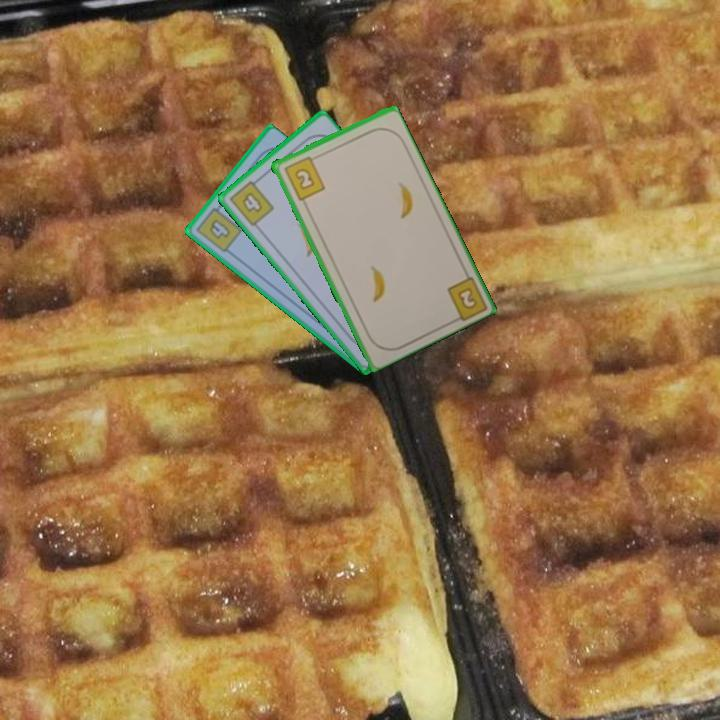2b: (280, 152, 328, 203), (454, 284, 480, 312)
4b: (192, 200, 245, 256), (225, 174, 277, 229)
